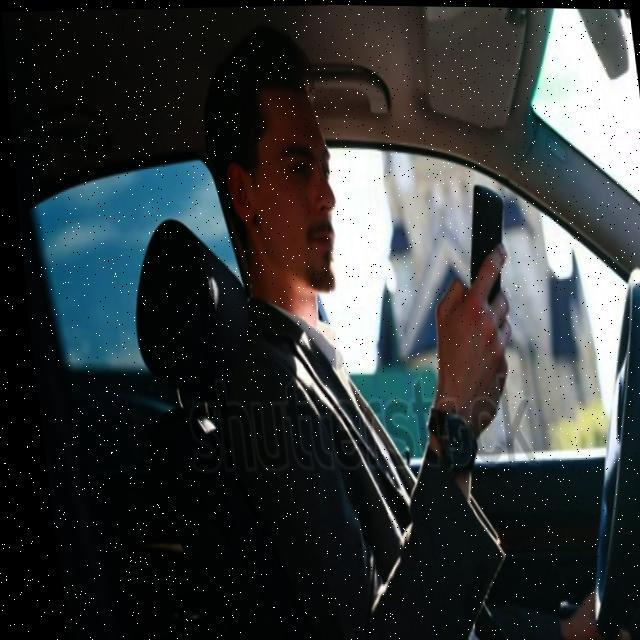PhoneCall: (454, 182, 514, 346)
